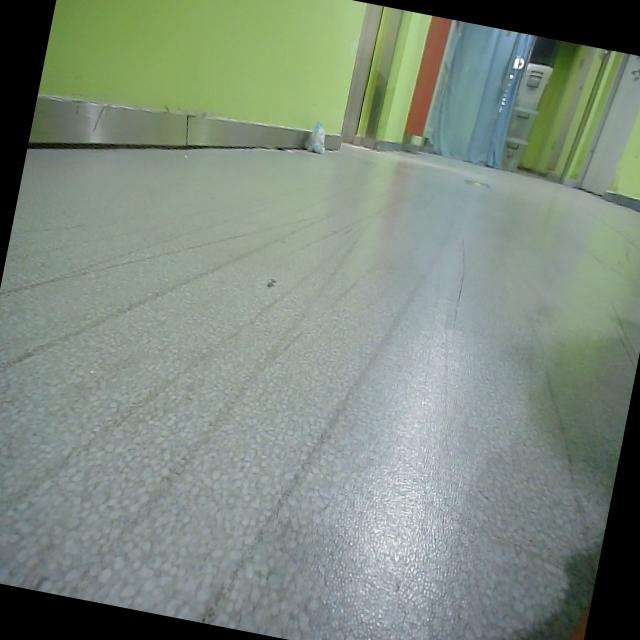xiaoba: (302, 116, 336, 156)
